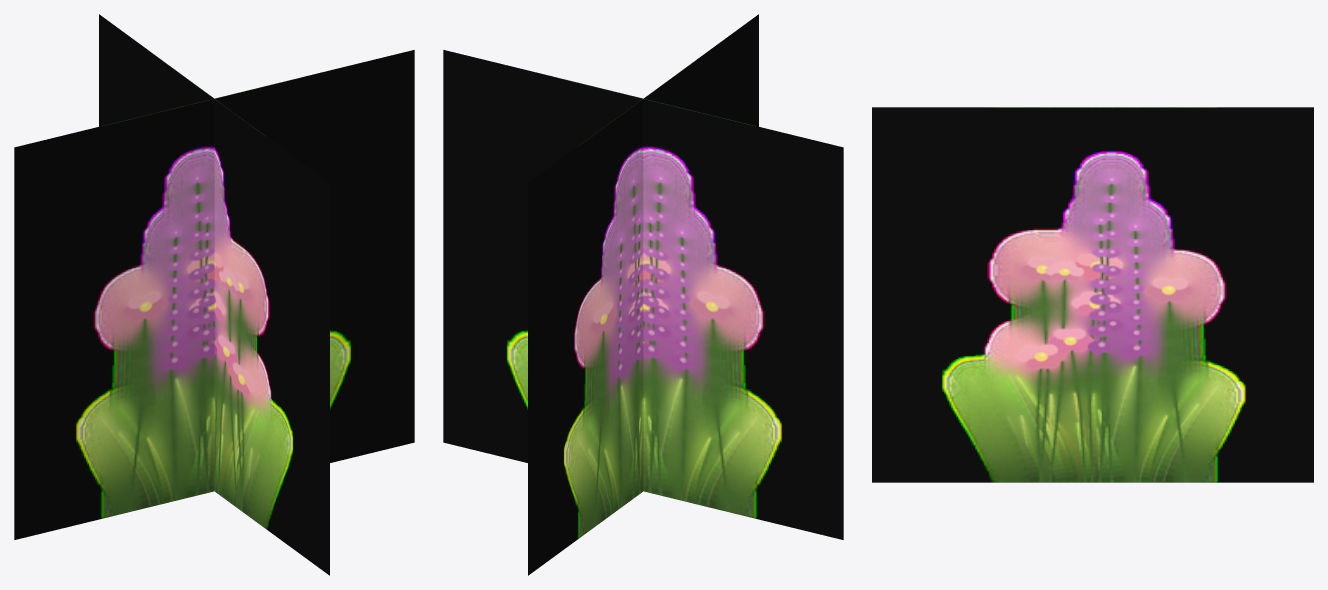
The model's file is pink_campion.glb.
3 views of the same model, side by side, from view 1: azimuth 30°, elevation 25°; view 2: azimuth 150°, elevation 25°; view 3: azimuth 270°, elevation 25° (orthographic). The views are drawn at different scales.
Parts seen in each view (by area): view 1: pink_campion_mesh; view 2: pink_campion_mesh; view 3: pink_campion_mesh.
Boxes of the visible parts, x1,y1,x2,y2 form: pink_campion_mesh: (14, 14, 414, 575); pink_campion_mesh: (443, 14, 843, 575); pink_campion_mesh: (872, 107, 1313, 482).
Bounding box in the file's own units: 0.8 × 0.75 × 0.8.
1 material, 1 textured.
